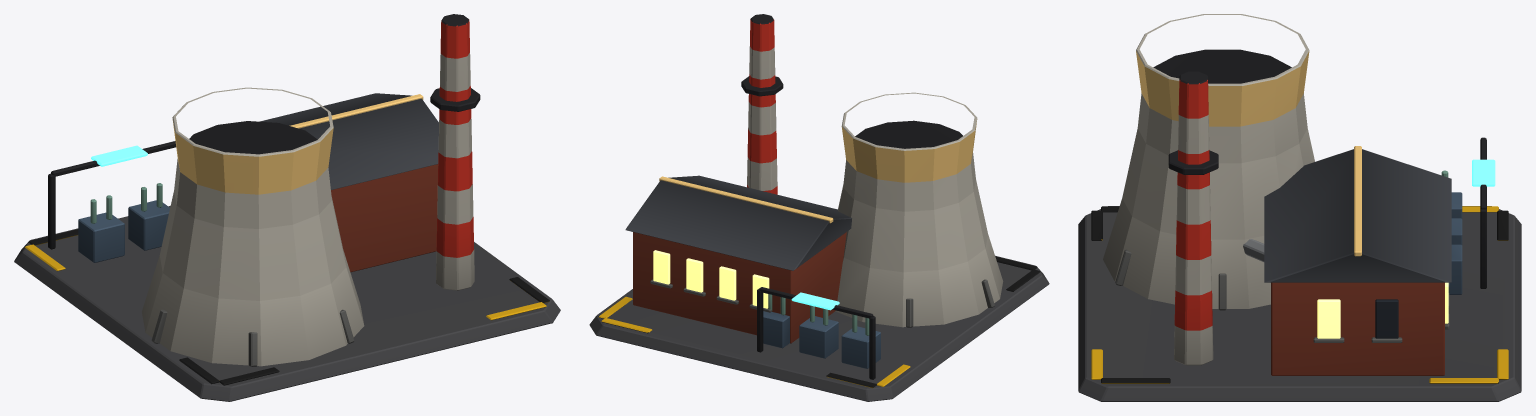
File: power_plant.glb
3 renders of one model, left to right at view 1: azimuth 30°, elevation 25°; view 2: azimuth 150°, elevation 25°; view 3: azimuth 270°, elevation 25°, orthographic. The views are drawn at different scales.
Parts seen in each view (by area): view 1: power_plant; view 2: power_plant; view 3: power_plant.
Boxes of the visible parts, x1,y1,x2,y2 form: power_plant: [14, 14, 560, 401]; power_plant: [589, 14, 1049, 401]; power_plant: [1078, 14, 1521, 401].
Size of the model in its own units: 2.29 by 1.67 by 2.29.
